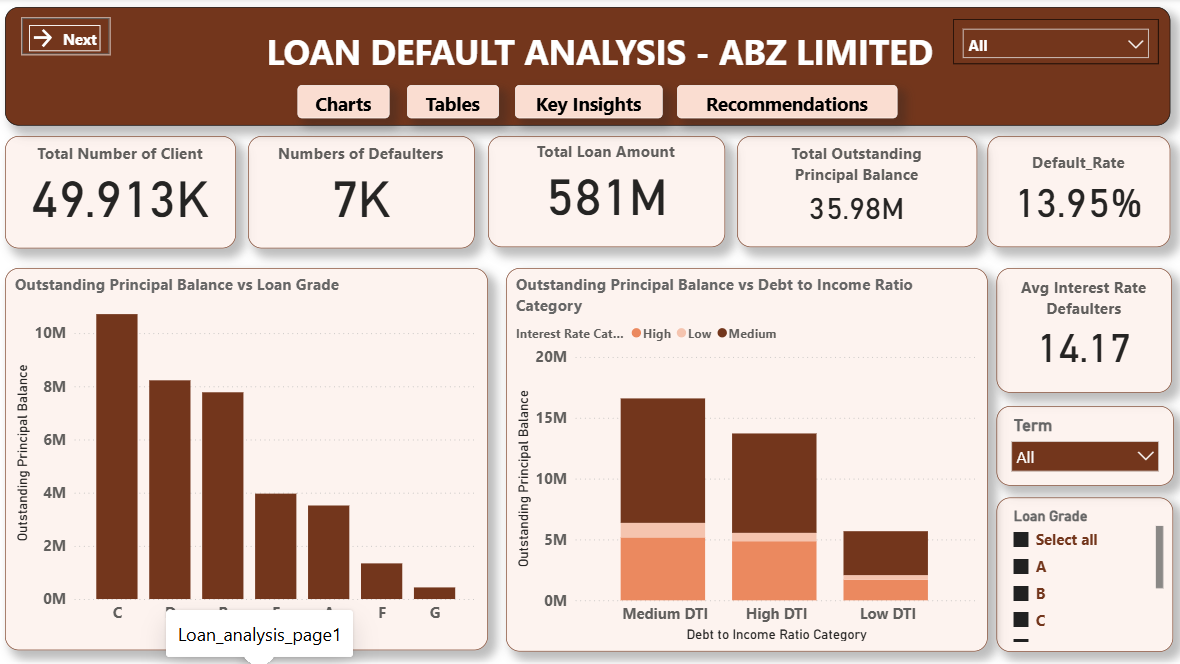

The dashboard page shown, as its layout file describes it:
{"tool":"powerbi","page":{"name":"Loan_analysis_page1","canvas":[1280,720],"ordinal":0},"visuals":[{"type":"textbox","box":[9.7,9.7,1258.1,127.9],"z":0},{"type":"slicer","title":"Application type slicer","fields":{"Values":["Loan_Info.Application_Type"]},"box":[1033.3,22.1,222.1,48.8],"z":7000},{"type":"actionButton","title":"Chart Button","box":[326,94.5,99.2,36.2],"z":9000},{"type":"actionButton","title":"Table Button","box":[444.2,94.5,99.2,36.2],"z":10000},{"type":"actionButton","title":"Key Insights","box":[560.7,94.5,159.1,36.2],"z":11000},{"type":"actionButton","title":"Recommendations","box":[735.6,94.5,237.8,36.2],"z":12000},{"type":"actionButton","title":"Next outer","box":[26.8,20.5,96.1,41],"z":13000},{"type":"actionButton","title":"Next inner","box":[36.2,28.4,77.2,28.4],"z":14000},{"type":"textbox","title":"Recommendations","box":[8.5,159.5,1259.1,538.4],"z":19000}]}

Visuals, with their boxes in screenshot pixels (x1, y1, x2, y2), scaled from the page's 1280x720 canvas onto the 1180x664 screenshot:
textbox: crop(9, 9, 1169, 127)
"Application type slicer" slicer: crop(953, 20, 1157, 65)
"Chart Button" actionButton: crop(301, 87, 392, 121)
"Table Button" actionButton: crop(409, 87, 501, 121)
"Key Insights" actionButton: crop(517, 87, 664, 121)
"Recommendations" actionButton: crop(678, 87, 897, 121)
"Next outer" actionButton: crop(25, 19, 113, 57)
"Next inner" actionButton: crop(33, 26, 105, 52)
"Recommendations" textbox: crop(8, 147, 1169, 644)
